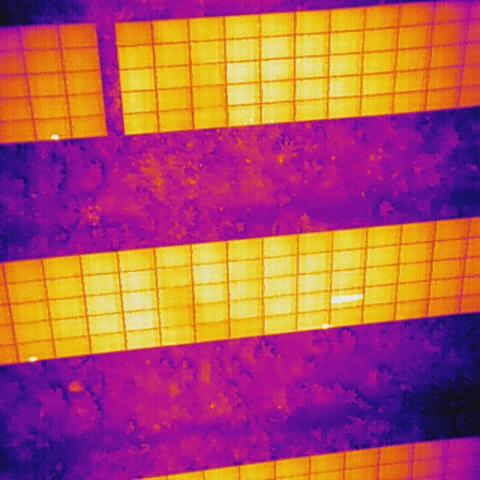fault: (330, 294, 365, 302), (50, 132, 60, 140), (320, 320, 328, 330), (27, 354, 37, 362)
